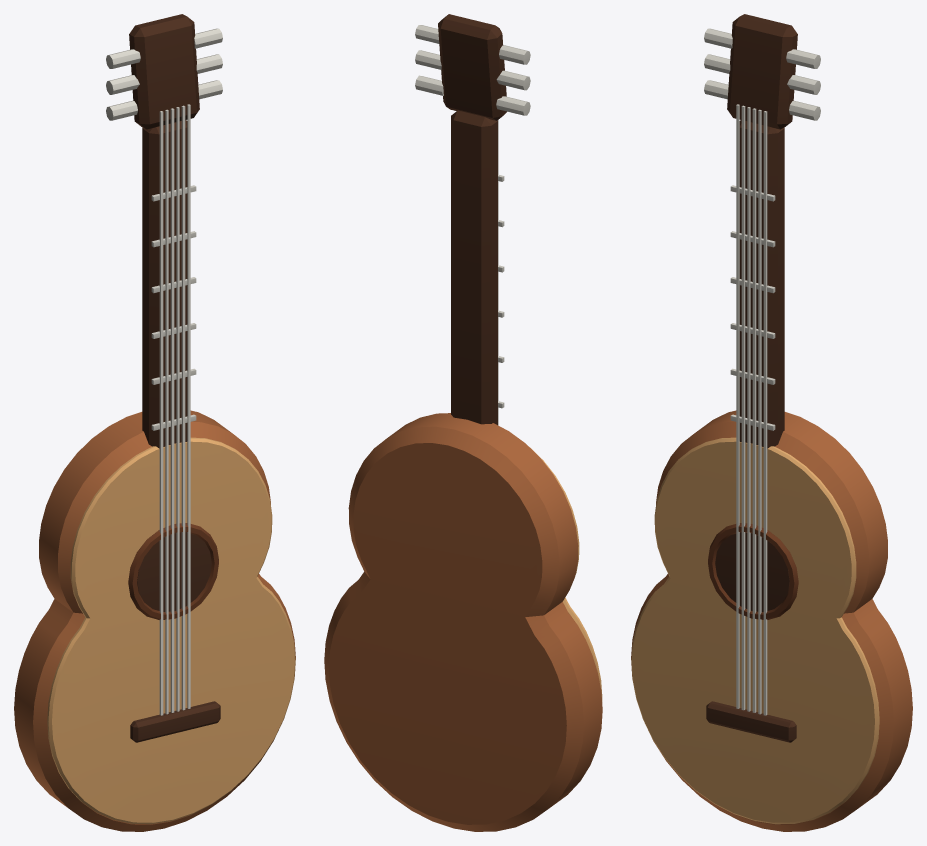
Rendered from violao.glb.
3 renders of one model, left to right at view 1: azimuth 30°, elevation 25°; view 2: azimuth 150°, elevation 25°; view 3: azimuth 330°, elevation 25°, orthographic.
Parts seen in each view (by area): view 1: corpo, braco, cordas; view 2: corpo, braco; view 3: corpo, braco, cordas.
Boxes of the visible parts, left/top/right/bottom form: corpo: left=14, top=410, right=295, bottom=831; braco: left=106, top=14, right=222, bottom=742; cordas: left=159, top=104, right=190, bottom=715; corpo: left=324, top=413, right=602, bottom=831; braco: left=415, top=14, right=530, bottom=425; corpo: left=631, top=410, right=912, bottom=831; braco: left=704, top=14, right=820, bottom=742; cordas: left=736, top=104, right=767, bottom=715.
Size of the model in its own units: 0.48 by 1.41 by 0.125.
